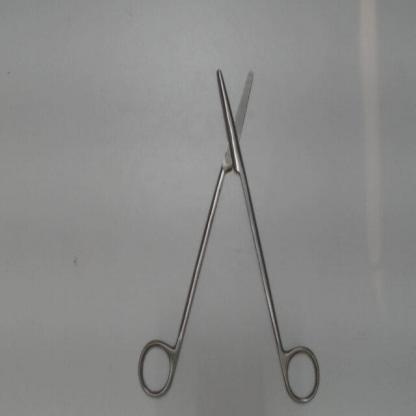9 Metzenbaum Scissors: (132, 58, 324, 409)
